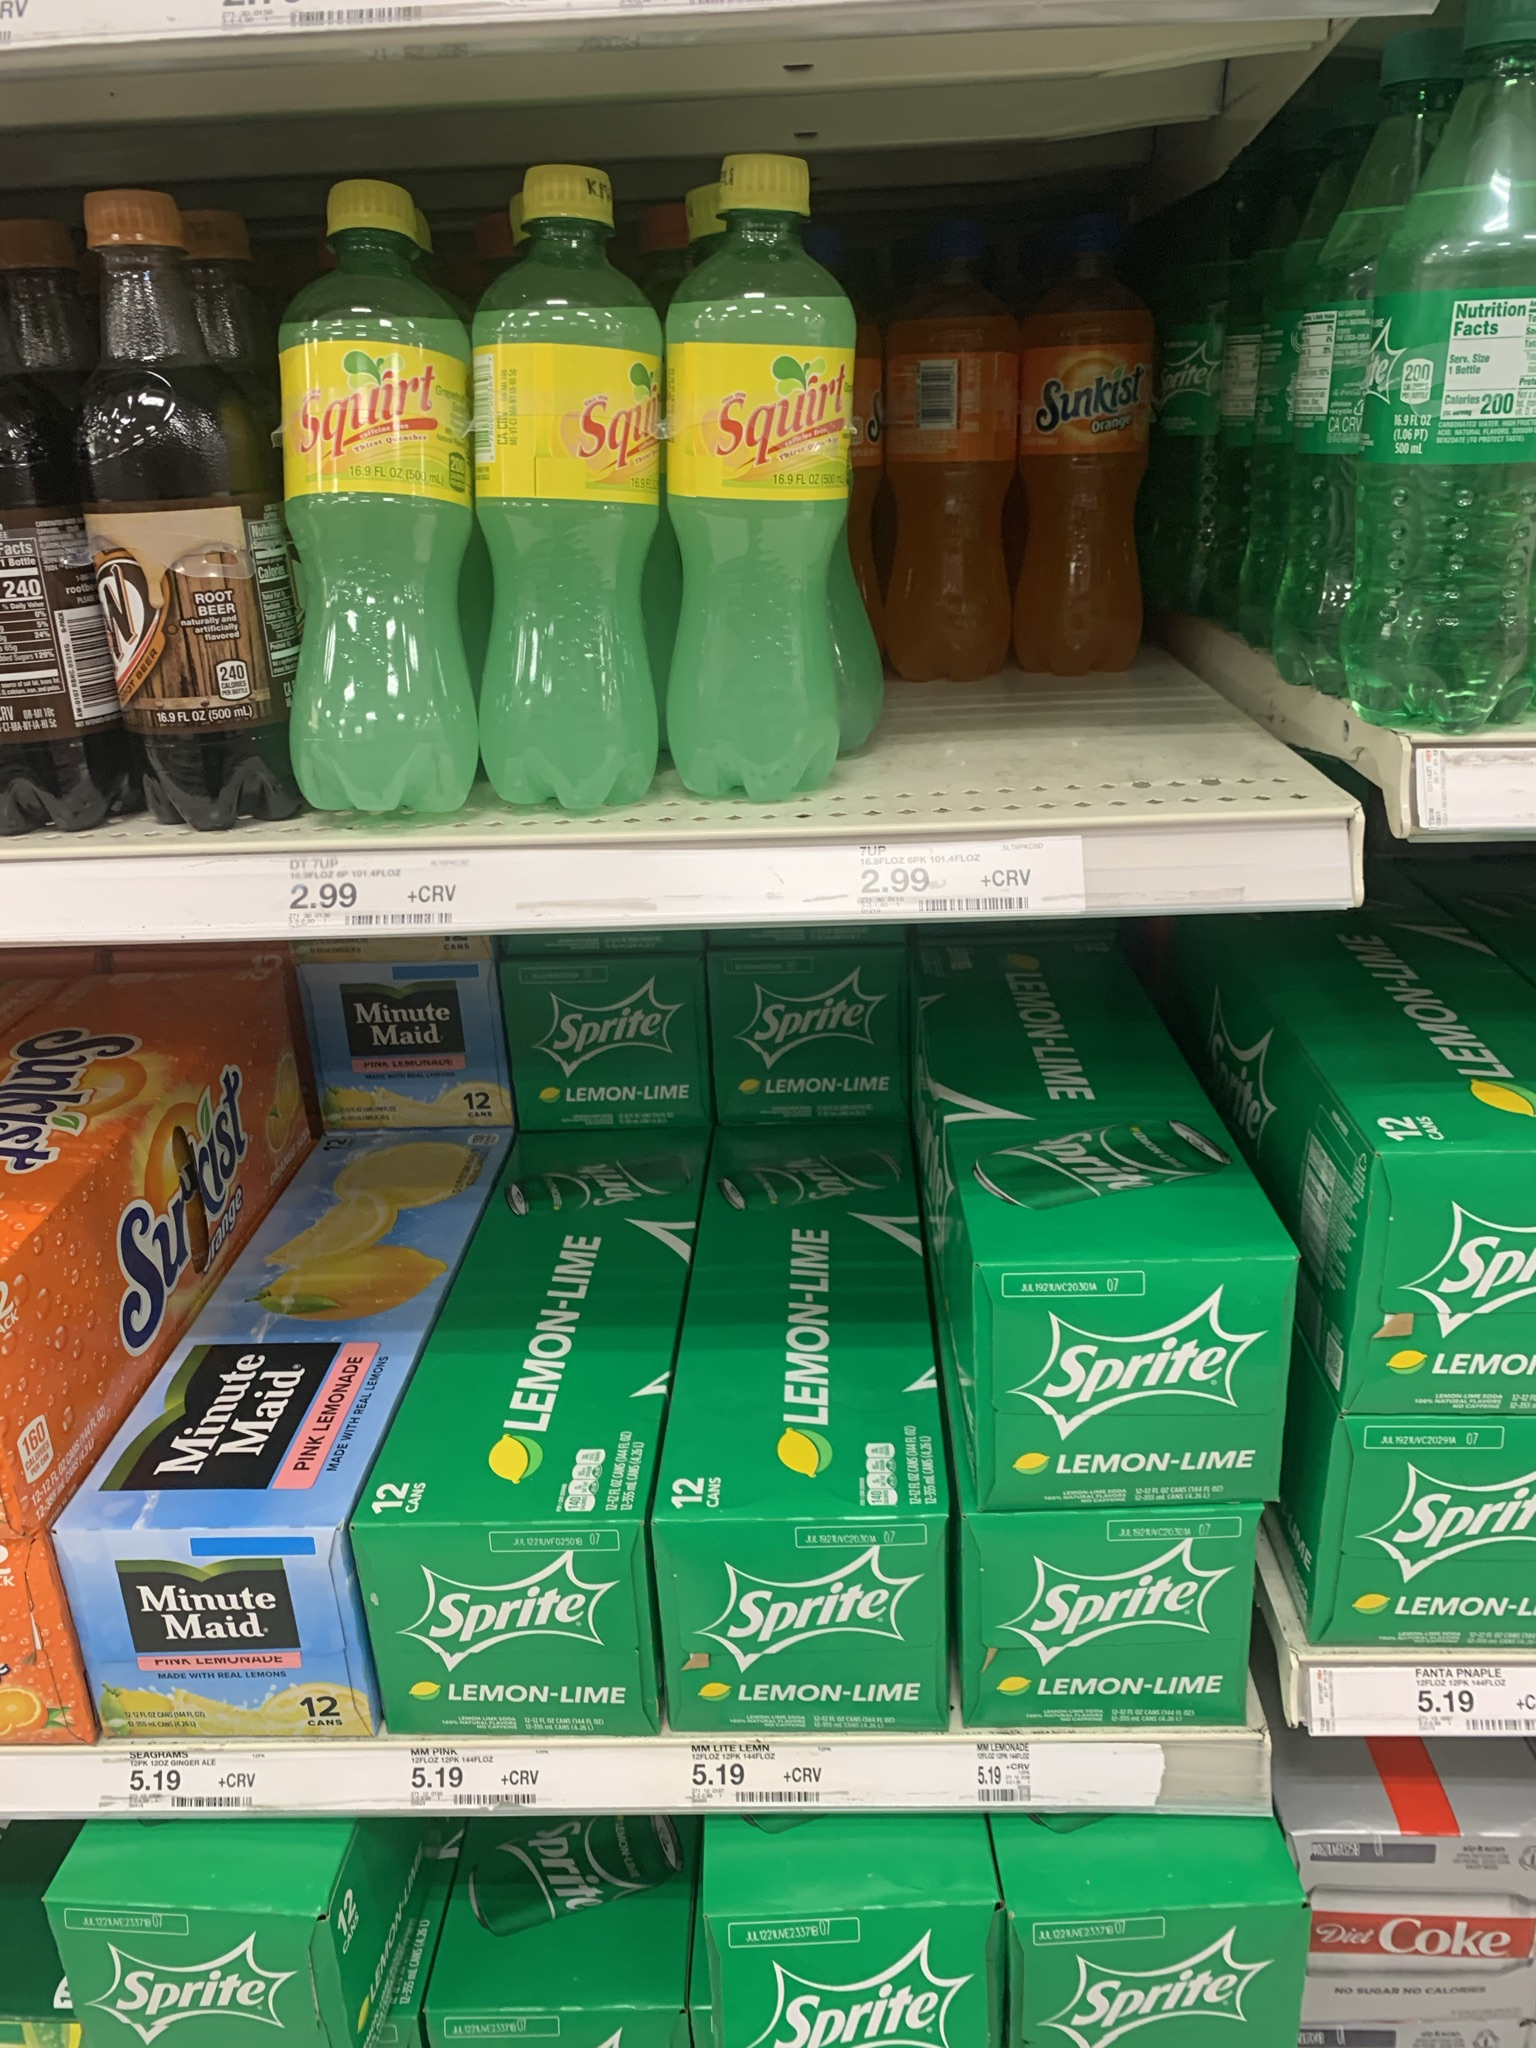AW soda: (79, 198, 287, 806)
minute maid soda: (82, 959, 292, 1821)
sprite soda: (1212, 930, 1536, 1614), (728, 955, 958, 1725), (507, 943, 653, 1737), (983, 1271, 1271, 1492)
squirt soda: (702, 166, 865, 780), (508, 176, 670, 776), (323, 190, 465, 856)
sunkist soda: (913, 221, 1158, 648)
